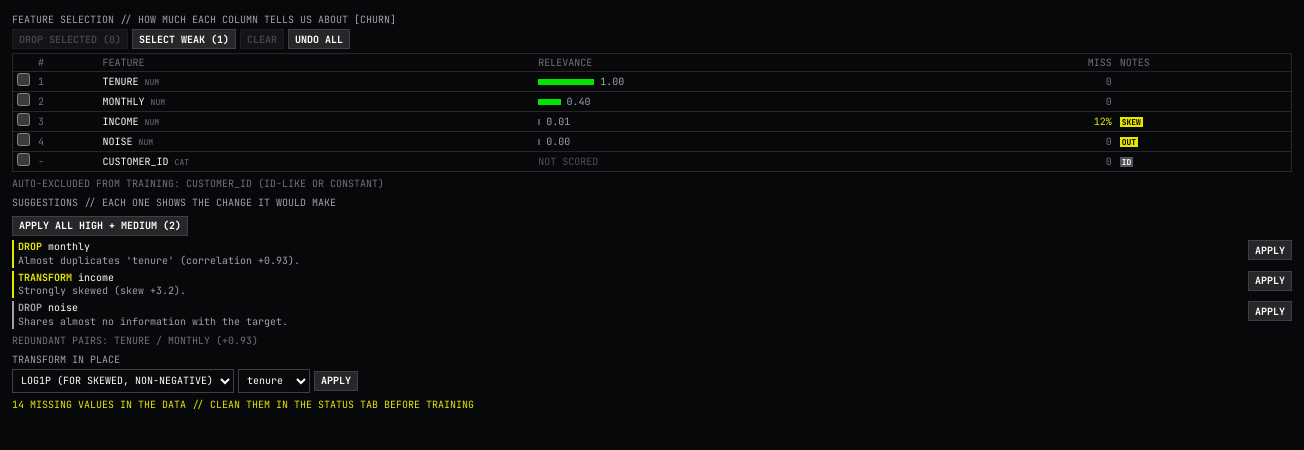
Scenario: FeaturesTab › shows a backend refusal in red and warns about new missing values
Check: the table with test id "features-table" is shown, box left=13, top=54, right=1291, bottom=171
Click the button with test id "inplace-apply" at (336, 380), box left=314, top=370, right=358, bottom=390
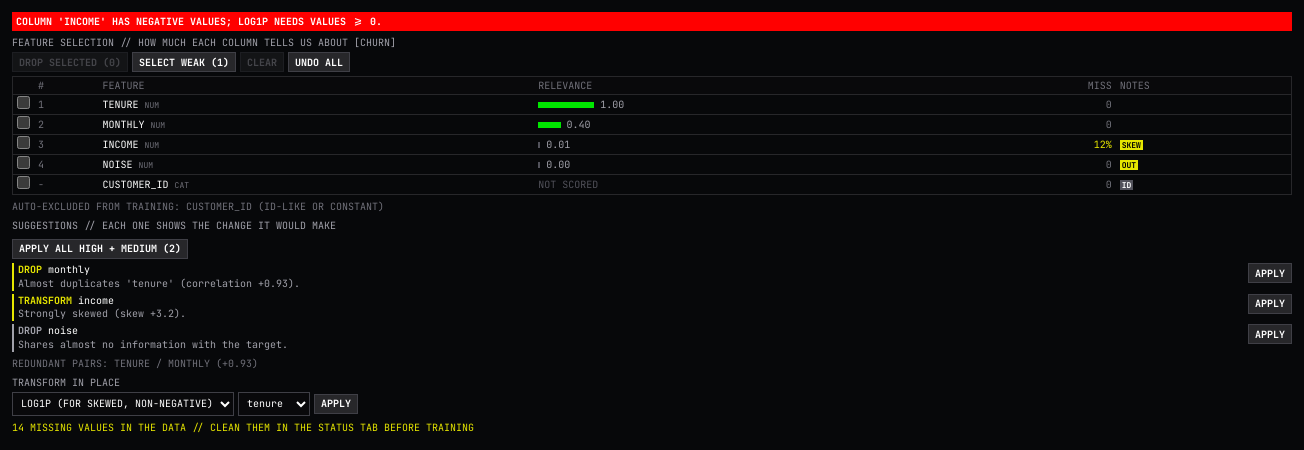
Check: the text "14 MISSING VALUES IN THE DATA" is shown, box left=12, top=420, right=474, bottom=434
Check: the text with test id "features-msg" shows "negative values", box left=16, top=15, right=382, bottom=28
